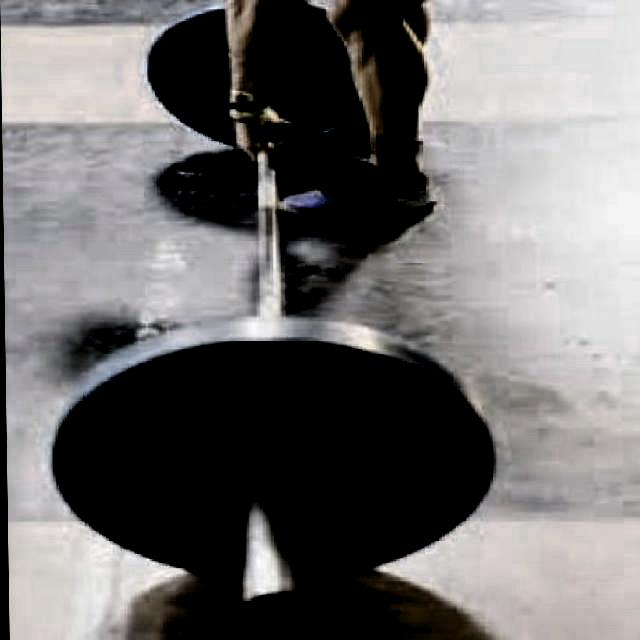barbell: (41, 329, 499, 627)
